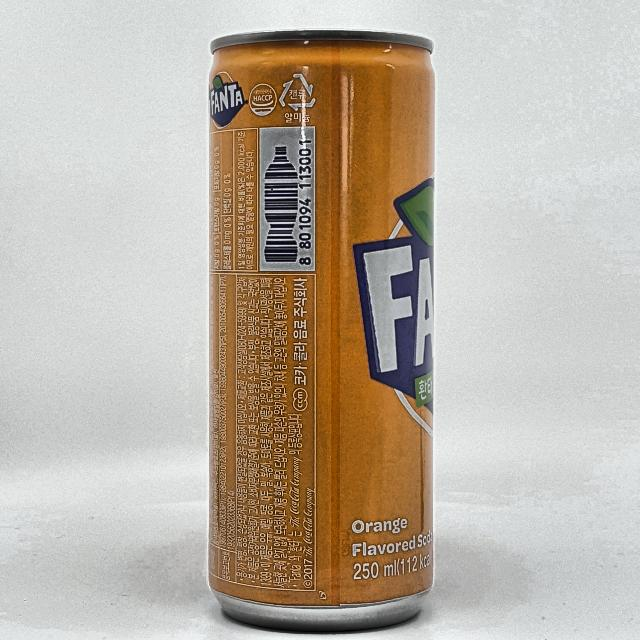fantaorange: (209, 31, 434, 630)
